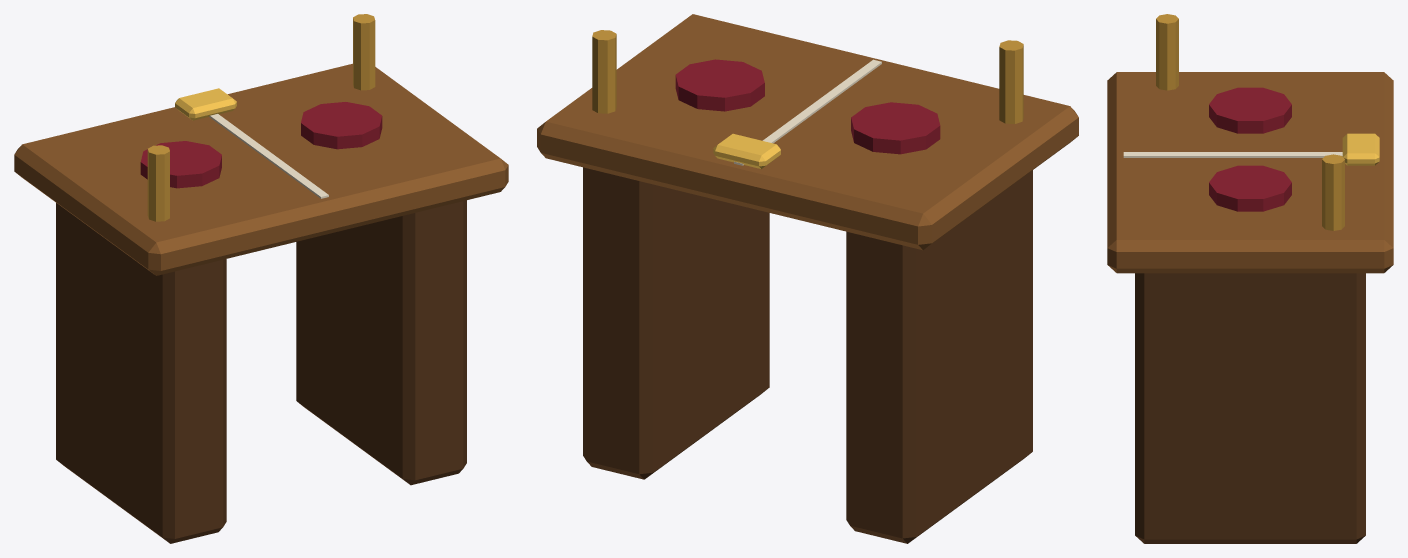
The model's file is PR_Furniture_BilekMasasi.fbx.
3 renders of one model, left to right at view 1: azimuth 30°, elevation 25°; view 2: azimuth 150°, elevation 25°; view 3: azimuth 270°, elevation 25°, orthographic. The views are drawn at different scales.
Parts seen in each view (by area): view 1: PR_Furniture_BilekMasasi; view 2: PR_Furniture_BilekMasasi; view 3: PR_Furniture_BilekMasasi.
Boxes of the visible parts, <box> form: PR_Furniture_BilekMasasi: <box>14,14,508,543</box>; PR_Furniture_BilekMasasi: <box>537,14,1078,543</box>; PR_Furniture_BilekMasasi: <box>1107,14,1393,543</box>.
Size of the model in its own units: 0.9 by 0.92 by 0.62.
